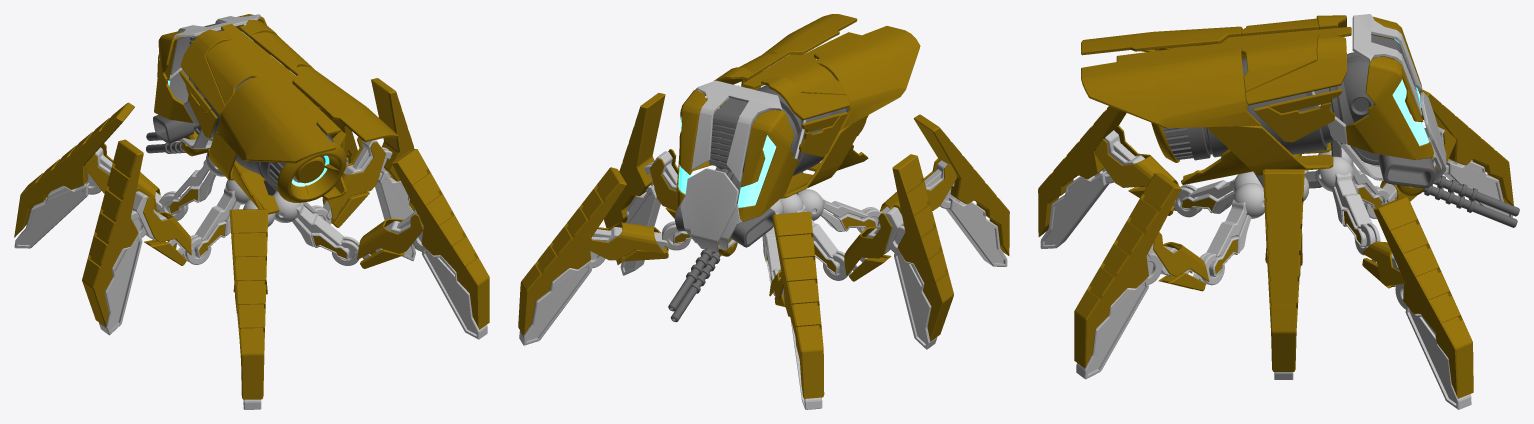
The model's file is flyirobo1t.fbx.
3 renders of one model, left to right at view 1: azimuth 30°, elevation 25°; view 2: azimuth 150°, elevation 25°; view 3: azimuth 270°, elevation 25°, orthographic. The views are drawn at different scales.
Visible parts, largest first — view 1: Cube.069, Cube.067, Plane.239, Plane.251, Plane.248, Plane.254, Cylinder.507, Cube.068, Plane.242, Plane.241, Plane.240, Plane.238 (+5 smaller); view 2: Cylinder.507, Cube.069, Cube.067, Plane.251, Plane.245, Plane.254, Plane.248, Plane.242, Plane.244, Plane.250, Cube.068, Plane.249 (+6 smaller); view 3: Cube.069, Cube.068, Cylinder.507, Plane.245, Plane.239, Plane.242, Plane.248, Plane.254, Cube.067, Plane.240, Plane.246, Plane.247 (+6 smaller).
Boxes of the visible parts, <box> form: Cube.069: <box>179,19,346,214</box>; Cube.067: <box>205,39,335,163</box>; Plane.239: <box>392,149,489,339</box>; Plane.251: <box>82,139,146,335</box>; Plane.248: <box>229,209,268,409</box>; Plane.254: <box>14,102,134,248</box>; Cylinder.507: <box>153,14,284,148</box>; Cube.068: <box>249,32,398,142</box>; Plane.242: <box>371,78,418,260</box>; Plane.241: <box>322,137,385,227</box>; Plane.240: <box>273,192,359,265</box>; Plane.238: <box>354,209,423,268</box>; Cylinder.507: <box>674,80,806,252</box>; Cube.069: <box>703,32,868,198</box>; Cube.067: <box>772,26,920,129</box>; Plane.251: <box>890,154,953,349</box>; Plane.245: <box>518,167,626,345</box>; Plane.254: <box>772,211,824,409</box>; Plane.248: <box>913,114,1009,266</box>; Plane.242: <box>604,93,665,275</box>; Plane.244: <box>584,222,668,261</box>; Plane.250: <box>842,204,903,281</box>; Cube.068: <box>739,14,857,88</box>; Plane.249: <box>798,189,881,232</box>; Cube.069: <box>1116,15,1380,188</box>; Cube.068: <box>1081,35,1318,128</box>; Cylinder.507: <box>1306,14,1446,188</box>; Plane.245: <box>1373,197,1473,409</box>; Plane.239: <box>1074,173,1181,379</box>; Plane.242: <box>1263,169,1304,379</box>; Plane.248: <box>1038,106,1126,248</box>; Plane.254: <box>1422,89,1513,217</box>; Cube.067: <box>1081,18,1318,58</box>; Plane.240: <box>1199,183,1264,285</box>; Plane.246: <box>1317,156,1380,255</box>; Plane.247: <box>1094,125,1178,215</box>.
Bounding box in the file's own units: 564 × 406 × 615.
